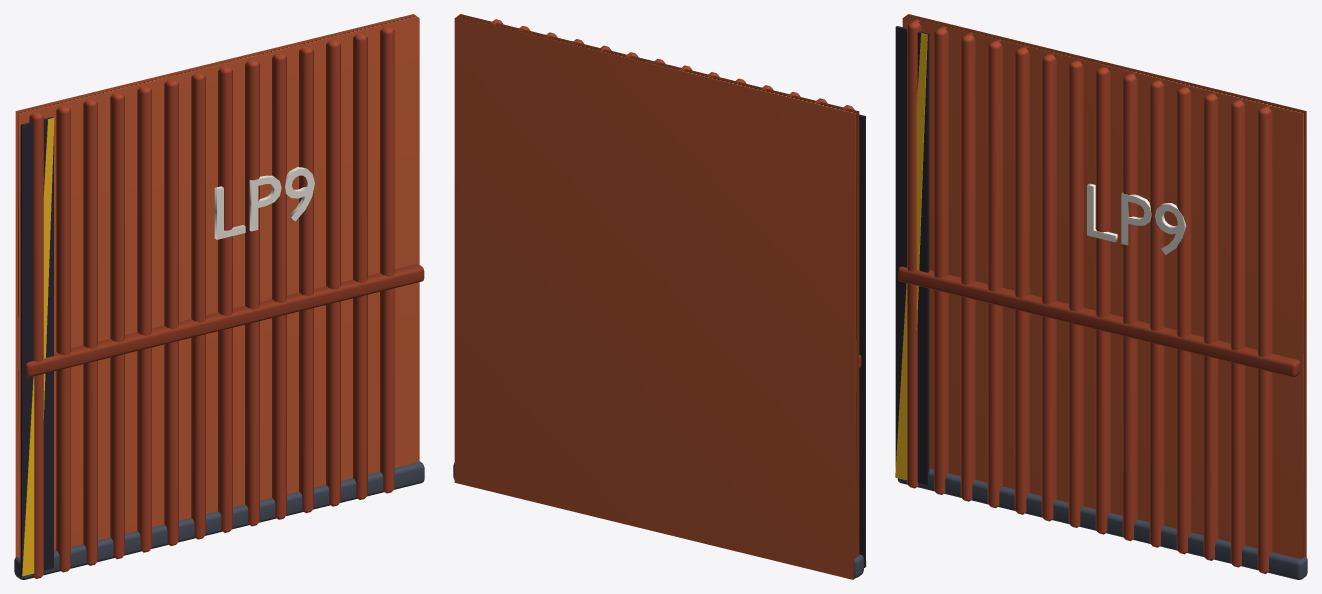
Rendered from dune_hangar_door_r.glb.
3 views of the same model, side by side, from view 1: azimuth 30°, elevation 25°; view 2: azimuth 150°, elevation 25°; view 3: azimuth 330°, elevation 25° (orthographic).
Parts seen in each view (by area): view 1: DoorR; view 2: DoorR; view 3: DoorR.
Boxes of the visible parts, box(x1,y1,x2,y2) form: DoorR: box(14, 14, 424, 579); DoorR: box(453, 14, 866, 579); DoorR: box(895, 14, 1307, 579).
Size of the model in its own units: 6.3 by 6.9 by 0.32.
